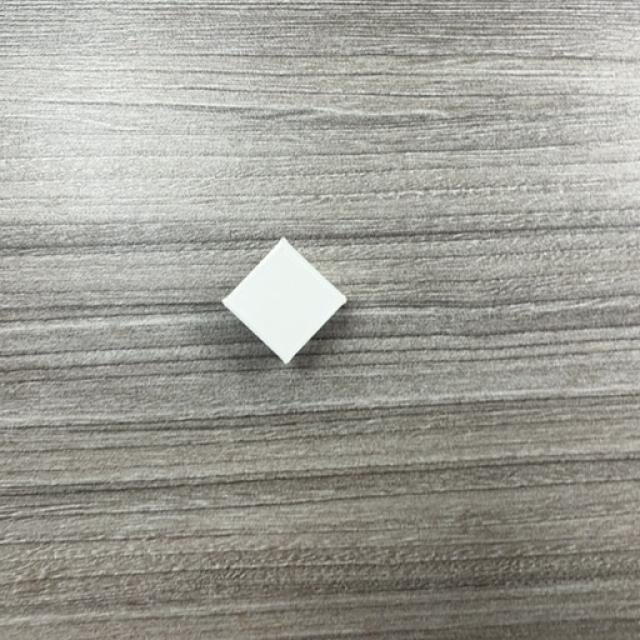Blanco: (221, 239, 348, 366)
